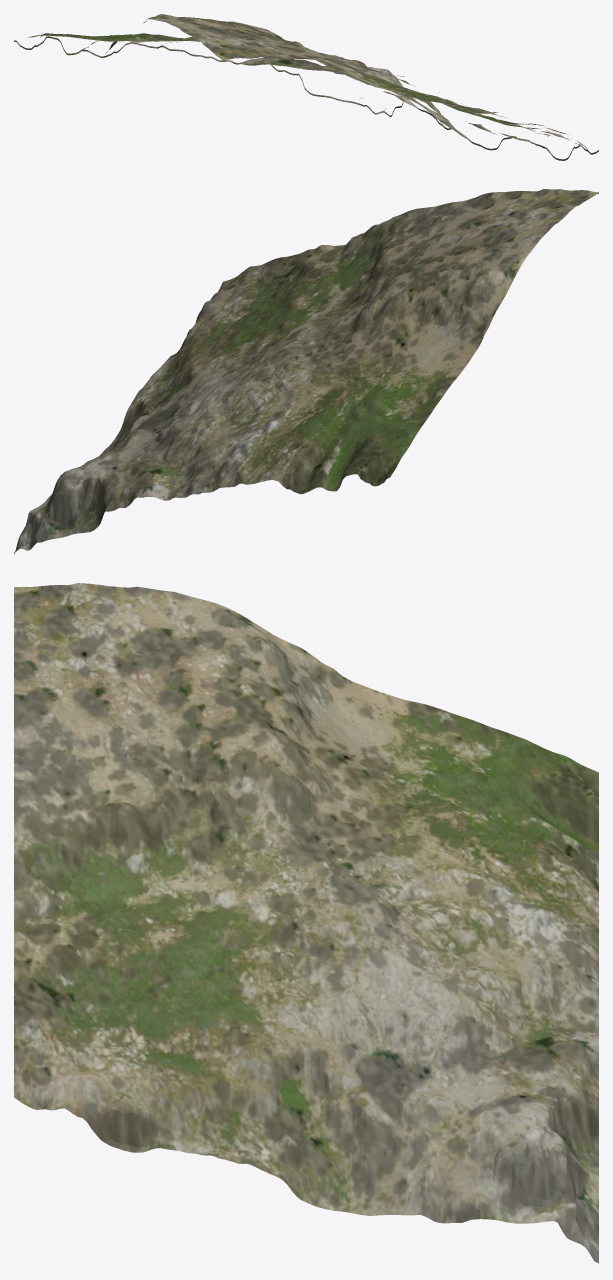
3 views of the same model, one above another, from view 1: azimuth 30°, elevation 25°; view 2: azimuth 150°, elevation 25°; view 3: azimuth 270°, elevation 25° (orthographic). The views are drawn at different scales.
Bounding box in the file's own units: 250 × 193 × 241.
Materials: 1 (1 with a texture image).
